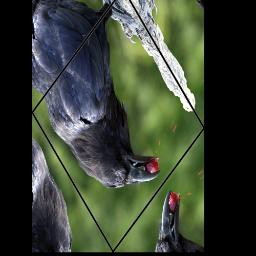Crow: (39, 0, 199, 236)
